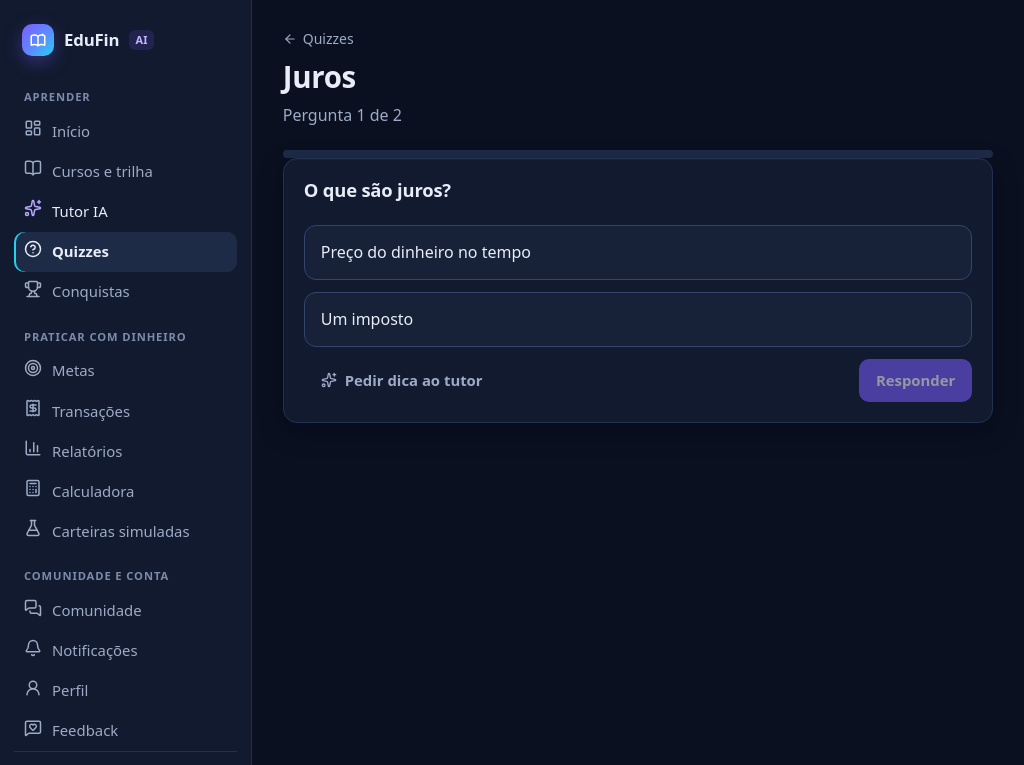
Test case: quiz › pede uma dica ao tutor antes de responder, sem marcar alternativa
The width and height of the screenshot is (1024, 765).
Step 1. Click the button "Pedir dica ao tutor" → click(402, 380), box [304,359,500,402]
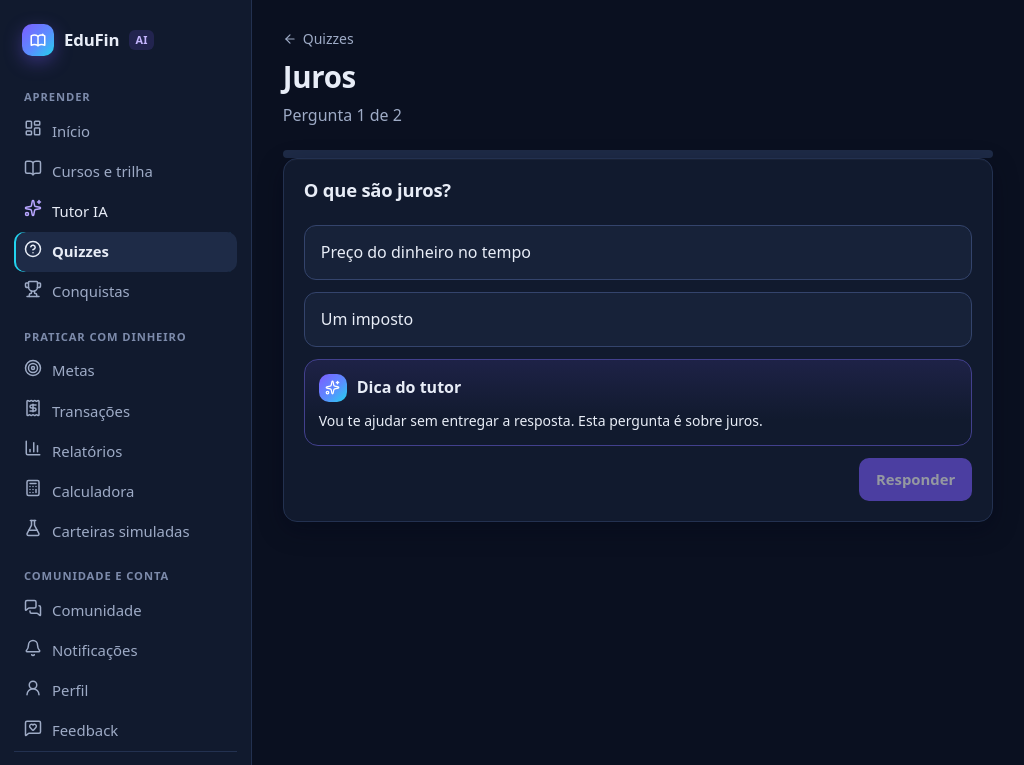
Check: the text "sem entregar a resposta" is shown, box [319,411,763,430]
Check: the button "Pedir dica ao tutor" is gone
